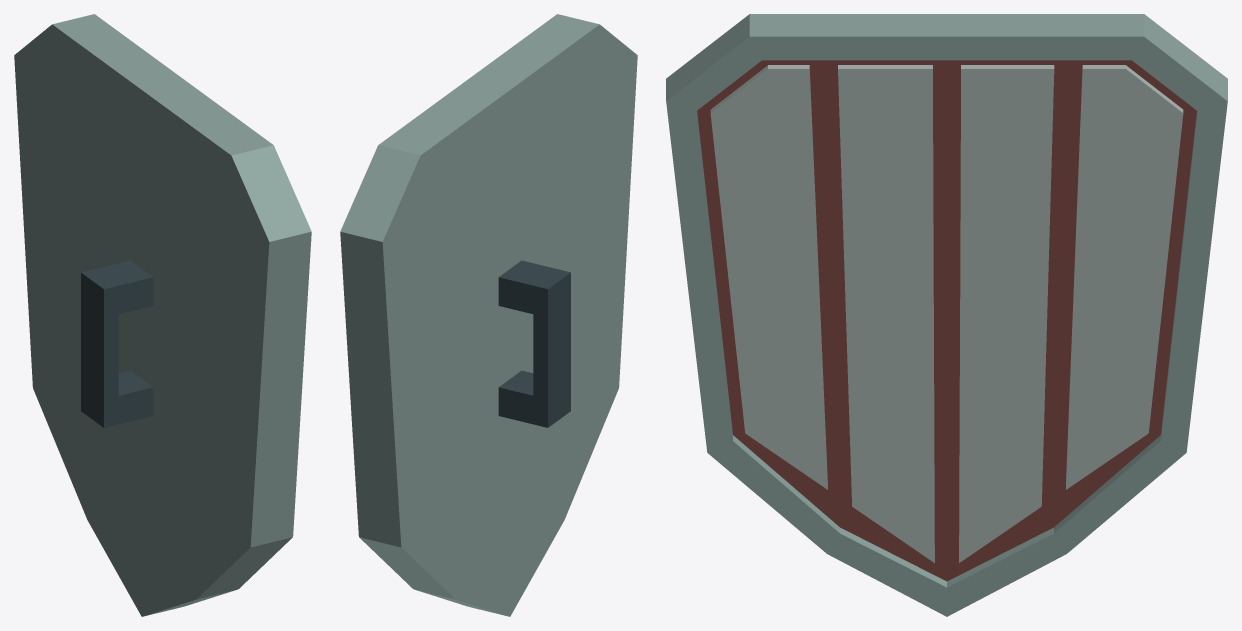
Rendered from Shield.fbx.
3 views of the same model, side by side, from view 1: azimuth 30°, elevation 25°; view 2: azimuth 150°, elevation 25°; view 3: azimuth 270°, elevation 25° (orthographic). The views are drawn at different scales.
Visible parts, largest first — view 1: Cube; view 2: Cube; view 3: Cube.
Part boxes in pixels (x1,y1,x2,y2): Cube: [14, 14, 311, 616]; Cube: [340, 14, 637, 616]; Cube: [666, 14, 1227, 616].
Bounding box in the file's own units: 48.64 × 267 × 234.
